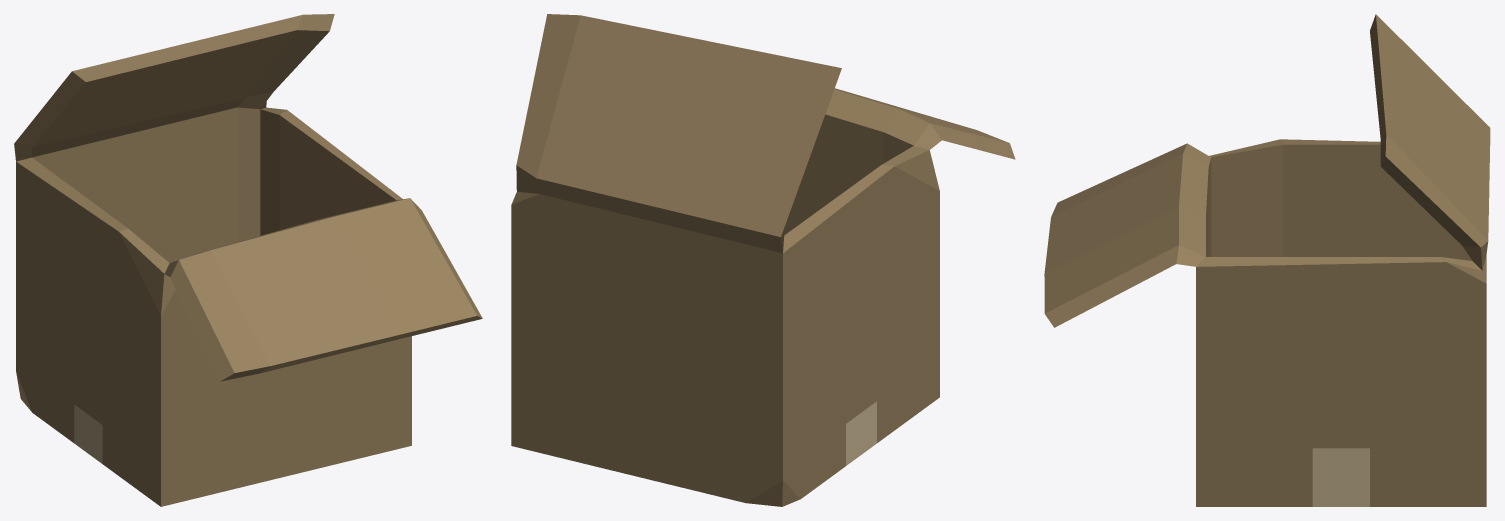
File: SM_Prop_CardboardBox_03.fbx
3 renders of one model, left to right at view 1: azimuth 30°, elevation 25°; view 2: azimuth 150°, elevation 25°; view 3: azimuth 270°, elevation 25°, orthographic. The views are drawn at different scales.
Parts seen in each view (by area): view 1: SM_Prop_CardboardBox_03; view 2: SM_Prop_CardboardBox_03; view 3: SM_Prop_CardboardBox_03.
Boxes of the visible parts, box(x1,y1,x2,y2) form: SM_Prop_CardboardBox_03: box(14, 14, 482, 506); SM_Prop_CardboardBox_03: box(511, 14, 1015, 506); SM_Prop_CardboardBox_03: box(1044, 14, 1490, 506).
Bounding box in the file's own units: 54.52 × 70.37 × 76.76.
